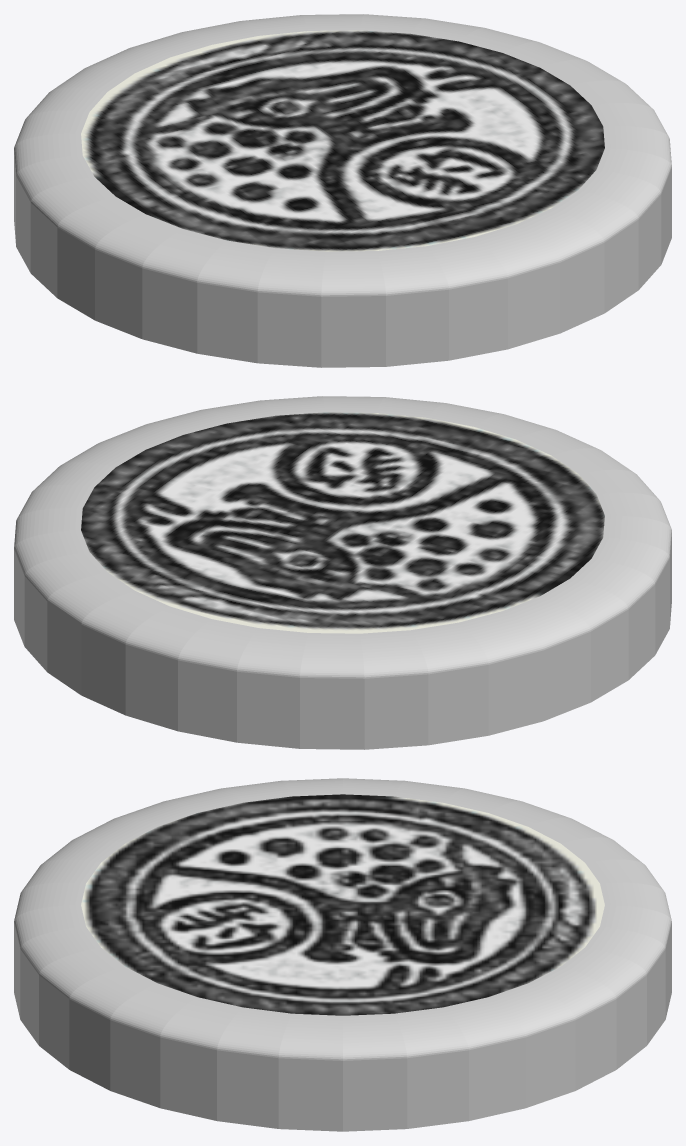
File: Black Leopard.fbx
3 renders of one model, top to bottom at view 1: azimuth 30°, elevation 25°; view 2: azimuth 150°, elevation 25°; view 3: azimuth 270°, elevation 25°, orthographic.
Visible parts, largest first — view 1: Cylinder.004; view 2: Cylinder.004; view 3: Cylinder.004.
Boxes of the visible parts, box(x1,y1,x2,y2) form: Cylinder.004: box(14, 14, 671, 367); Cylinder.004: box(14, 396, 671, 749); Cylinder.004: box(14, 778, 671, 1131).
Bounding box in the file's own units: 151 × 22.19 × 151.
2 materials, 1 textured.
